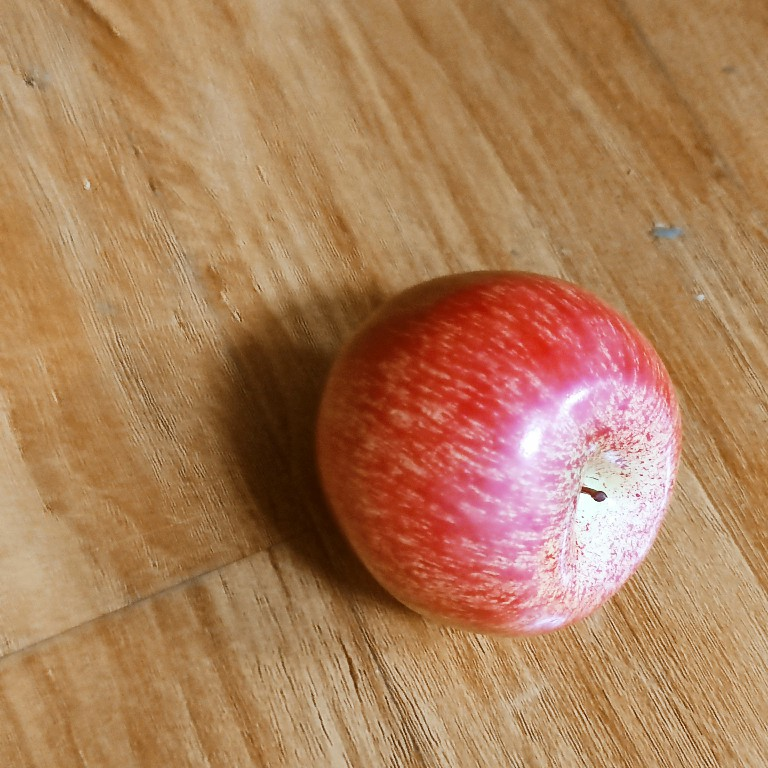fruit_apple: (309, 265, 686, 641)
